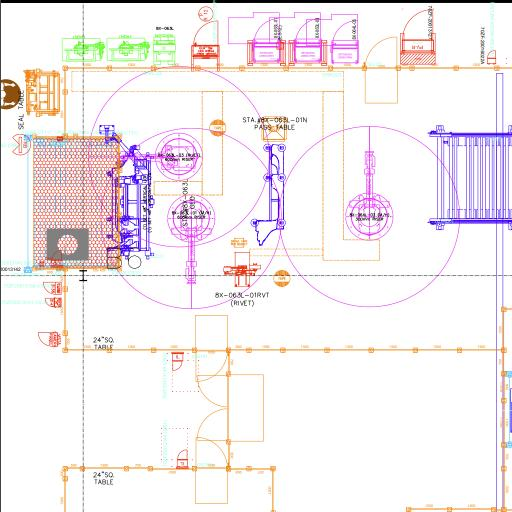robot: (346, 149, 396, 243), (166, 194, 216, 287), (116, 131, 204, 180)
